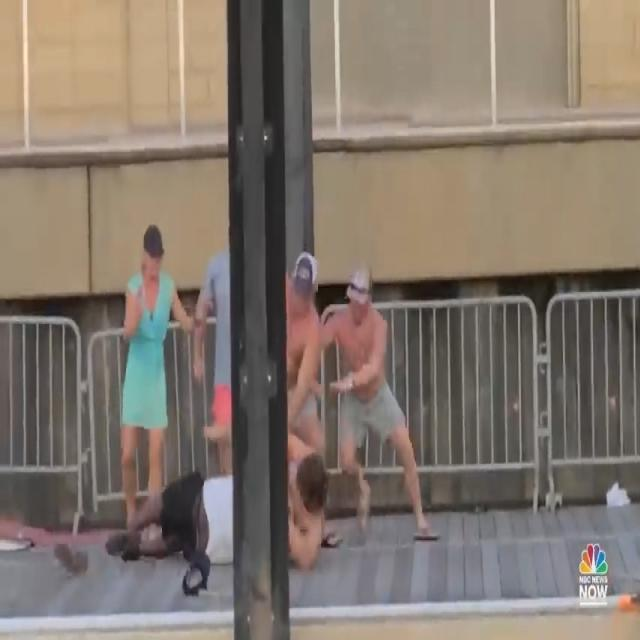fight: (104, 251, 444, 572)
non-fight: (118, 218, 232, 544)
